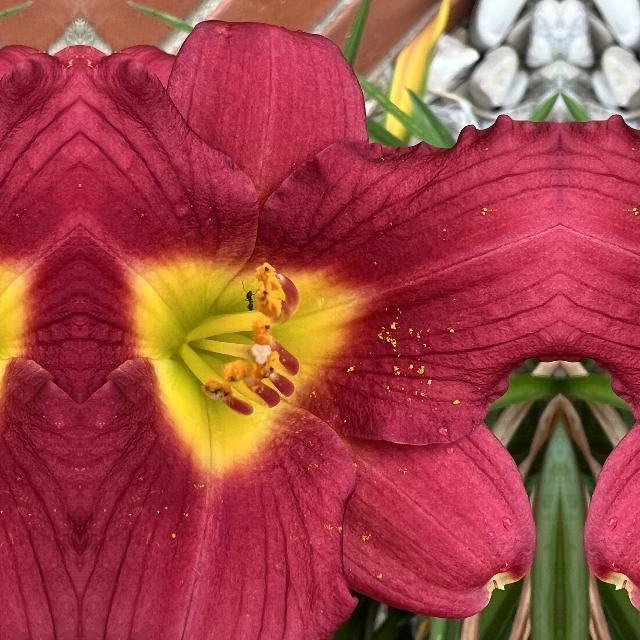Tapinoma: (243, 288, 255, 312)
